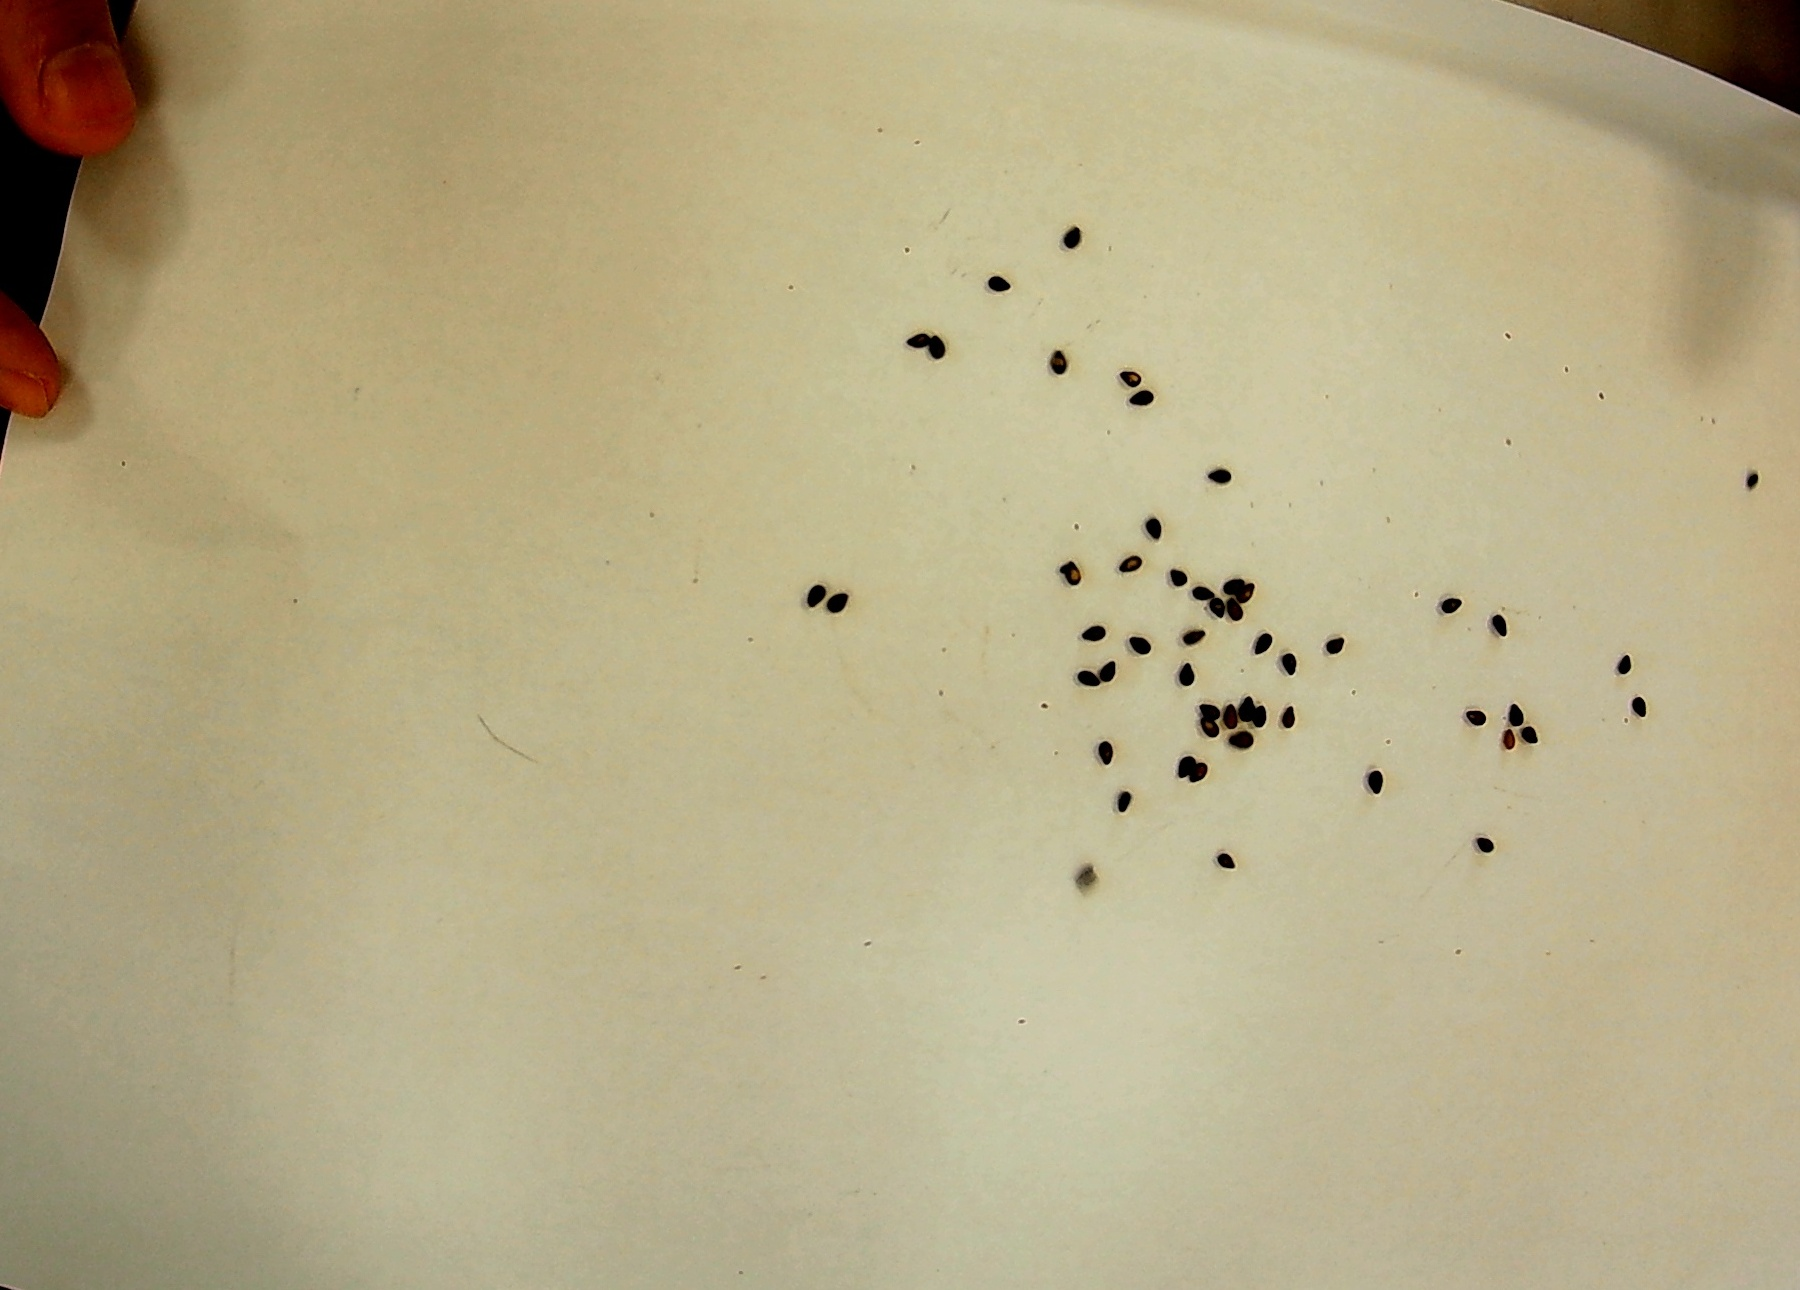sesami: (1056, 219, 1091, 255), (981, 269, 1021, 299), (1058, 558, 1090, 589), (1095, 653, 1120, 688), (1224, 729, 1259, 754), (1204, 464, 1238, 489), (1125, 385, 1160, 409), (825, 589, 854, 617), (1180, 621, 1208, 651), (1079, 620, 1109, 645), (1072, 667, 1102, 692), (1321, 630, 1347, 660), (901, 324, 929, 350), (1045, 349, 1073, 376), (1213, 847, 1240, 874), (1461, 704, 1487, 732), (802, 582, 827, 611), (1468, 831, 1497, 856), (1140, 515, 1167, 542), (1440, 592, 1467, 618), (1127, 632, 1155, 658), (1167, 563, 1192, 591), (1486, 611, 1511, 639), (1365, 766, 1388, 796), (1118, 551, 1144, 575), (1740, 468, 1767, 491), (928, 334, 950, 362), (1236, 694, 1257, 723), (1628, 692, 1649, 722), (1497, 727, 1521, 752), (1176, 660, 1199, 687), (1113, 787, 1134, 815), (1252, 630, 1275, 653), (1192, 699, 1222, 718), (1280, 651, 1299, 679), (1252, 704, 1271, 732), (1521, 720, 1540, 748), (1097, 737, 1115, 766), (1118, 369, 1143, 390), (1224, 598, 1245, 623), (1197, 719, 1222, 740), (1614, 651, 1633, 679), (1280, 704, 1299, 729), (1207, 595, 1227, 618), (1506, 706, 1527, 727), (1176, 757, 1194, 780), (1220, 575, 1243, 593), (1224, 704, 1239, 729), (1193, 582, 1214, 600), (1240, 581, 1256, 603), (1192, 764, 1208, 782)
